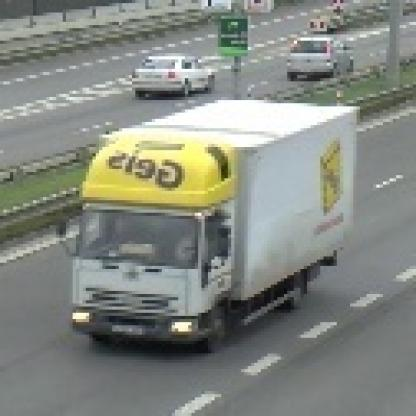truck: (54, 95, 354, 351)
